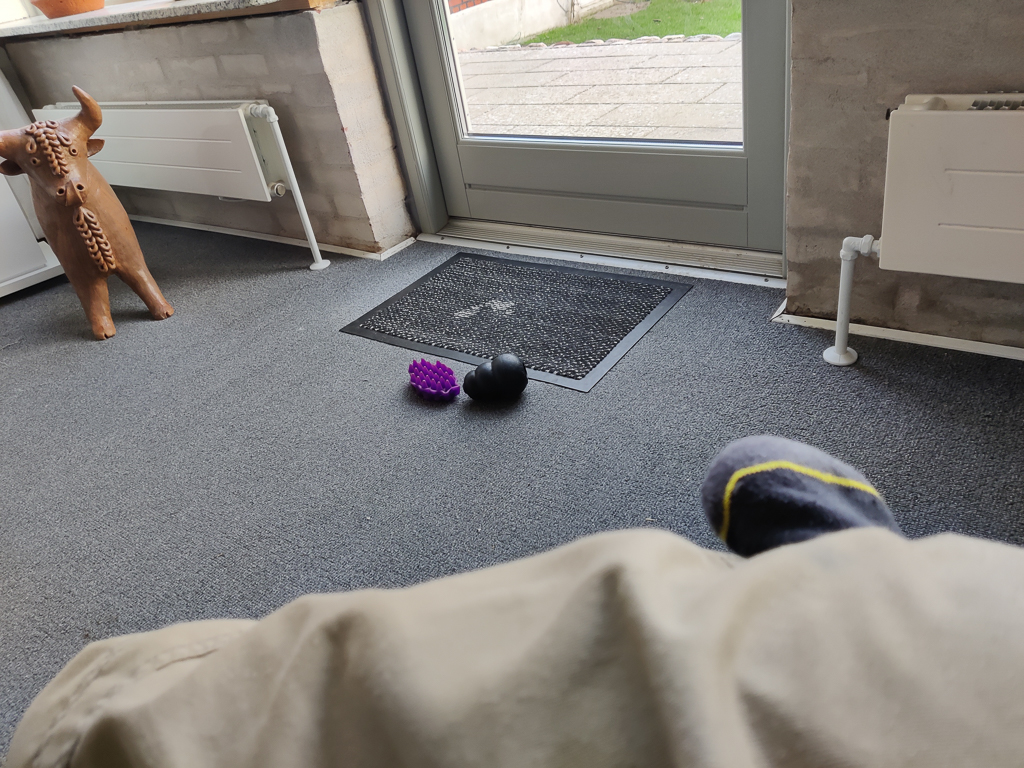Cattle: (0, 74, 179, 354)
Humanoid: (0, 413, 1024, 768)
